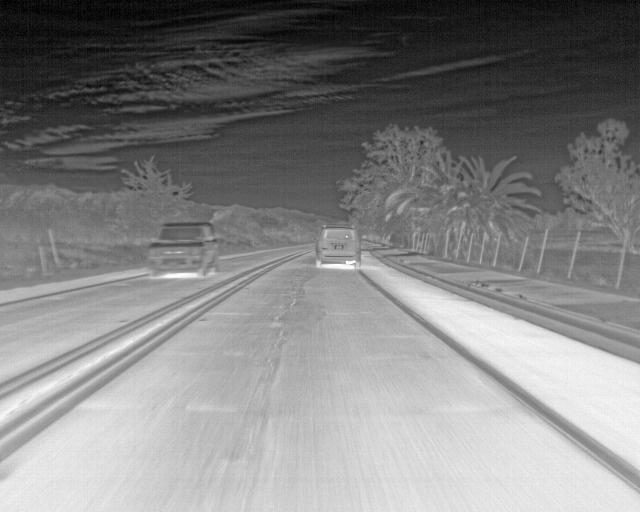car: (146, 221, 221, 277), (315, 228, 361, 268)
